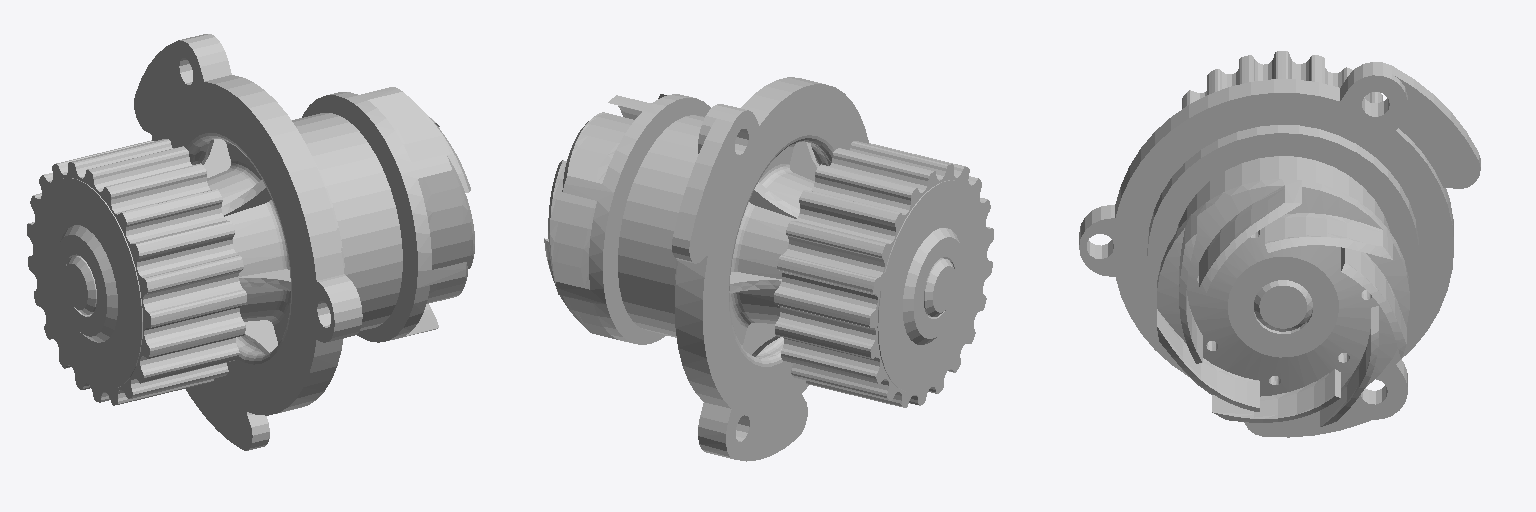
The model's file is Водяной насос.obj.
3 renders of one model, left to right at view 1: azimuth 30°, elevation 25°; view 2: azimuth 150°, elevation 25°; view 3: azimuth 270°, elevation 25°, orthographic.
Parts seen in each view (by area): view 1: Водяной_насос; view 2: Водяной_насос; view 3: Водяной_насос.
Boxes of the visible parts, box(x1,y1,x2,y2) form: Водяной_насос: box(27, 34, 474, 450); Водяной_насос: box(544, 77, 993, 461); Водяной_насос: box(1079, 51, 1480, 437).
Bounding box in the file's own units: 102 × 101 × 99.85.